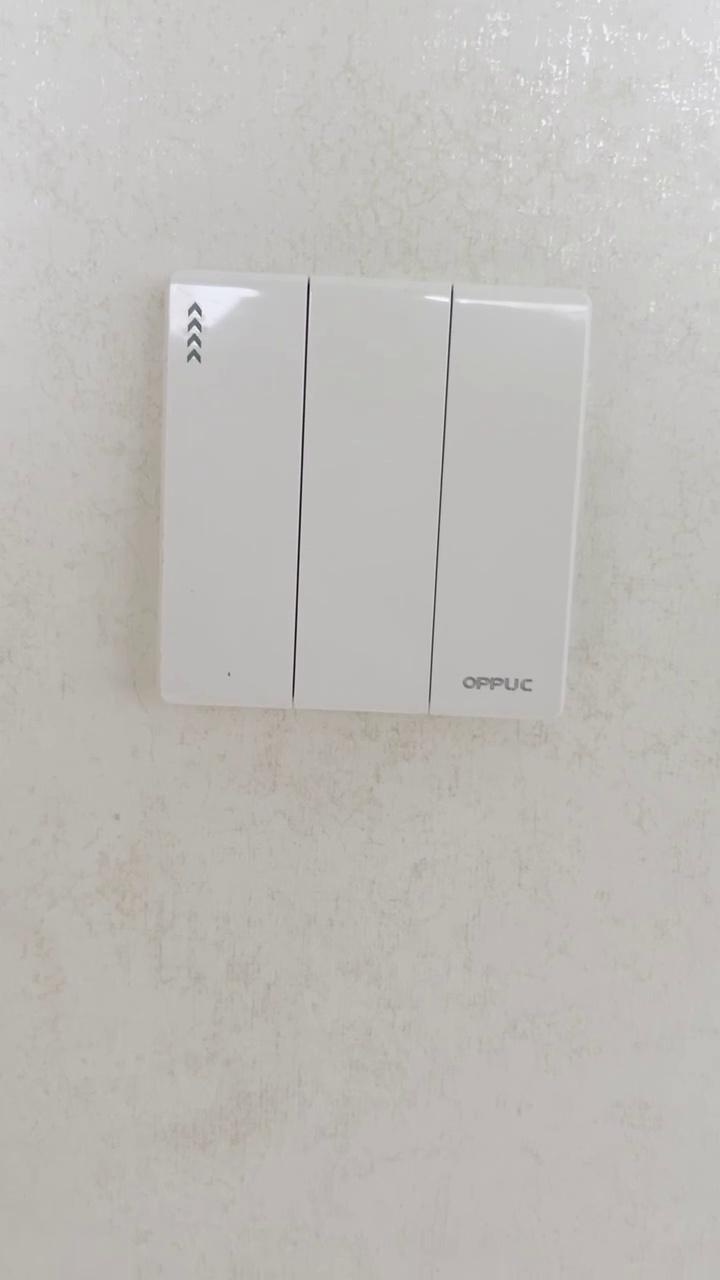button1: (436, 296, 578, 720), (301, 283, 441, 713), (171, 287, 300, 702)
